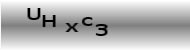3: (94, 23, 109, 37)
H: (41, 13, 56, 28)
U: (27, 7, 41, 21)
c: (80, 16, 93, 27)
x: (64, 22, 78, 33)
